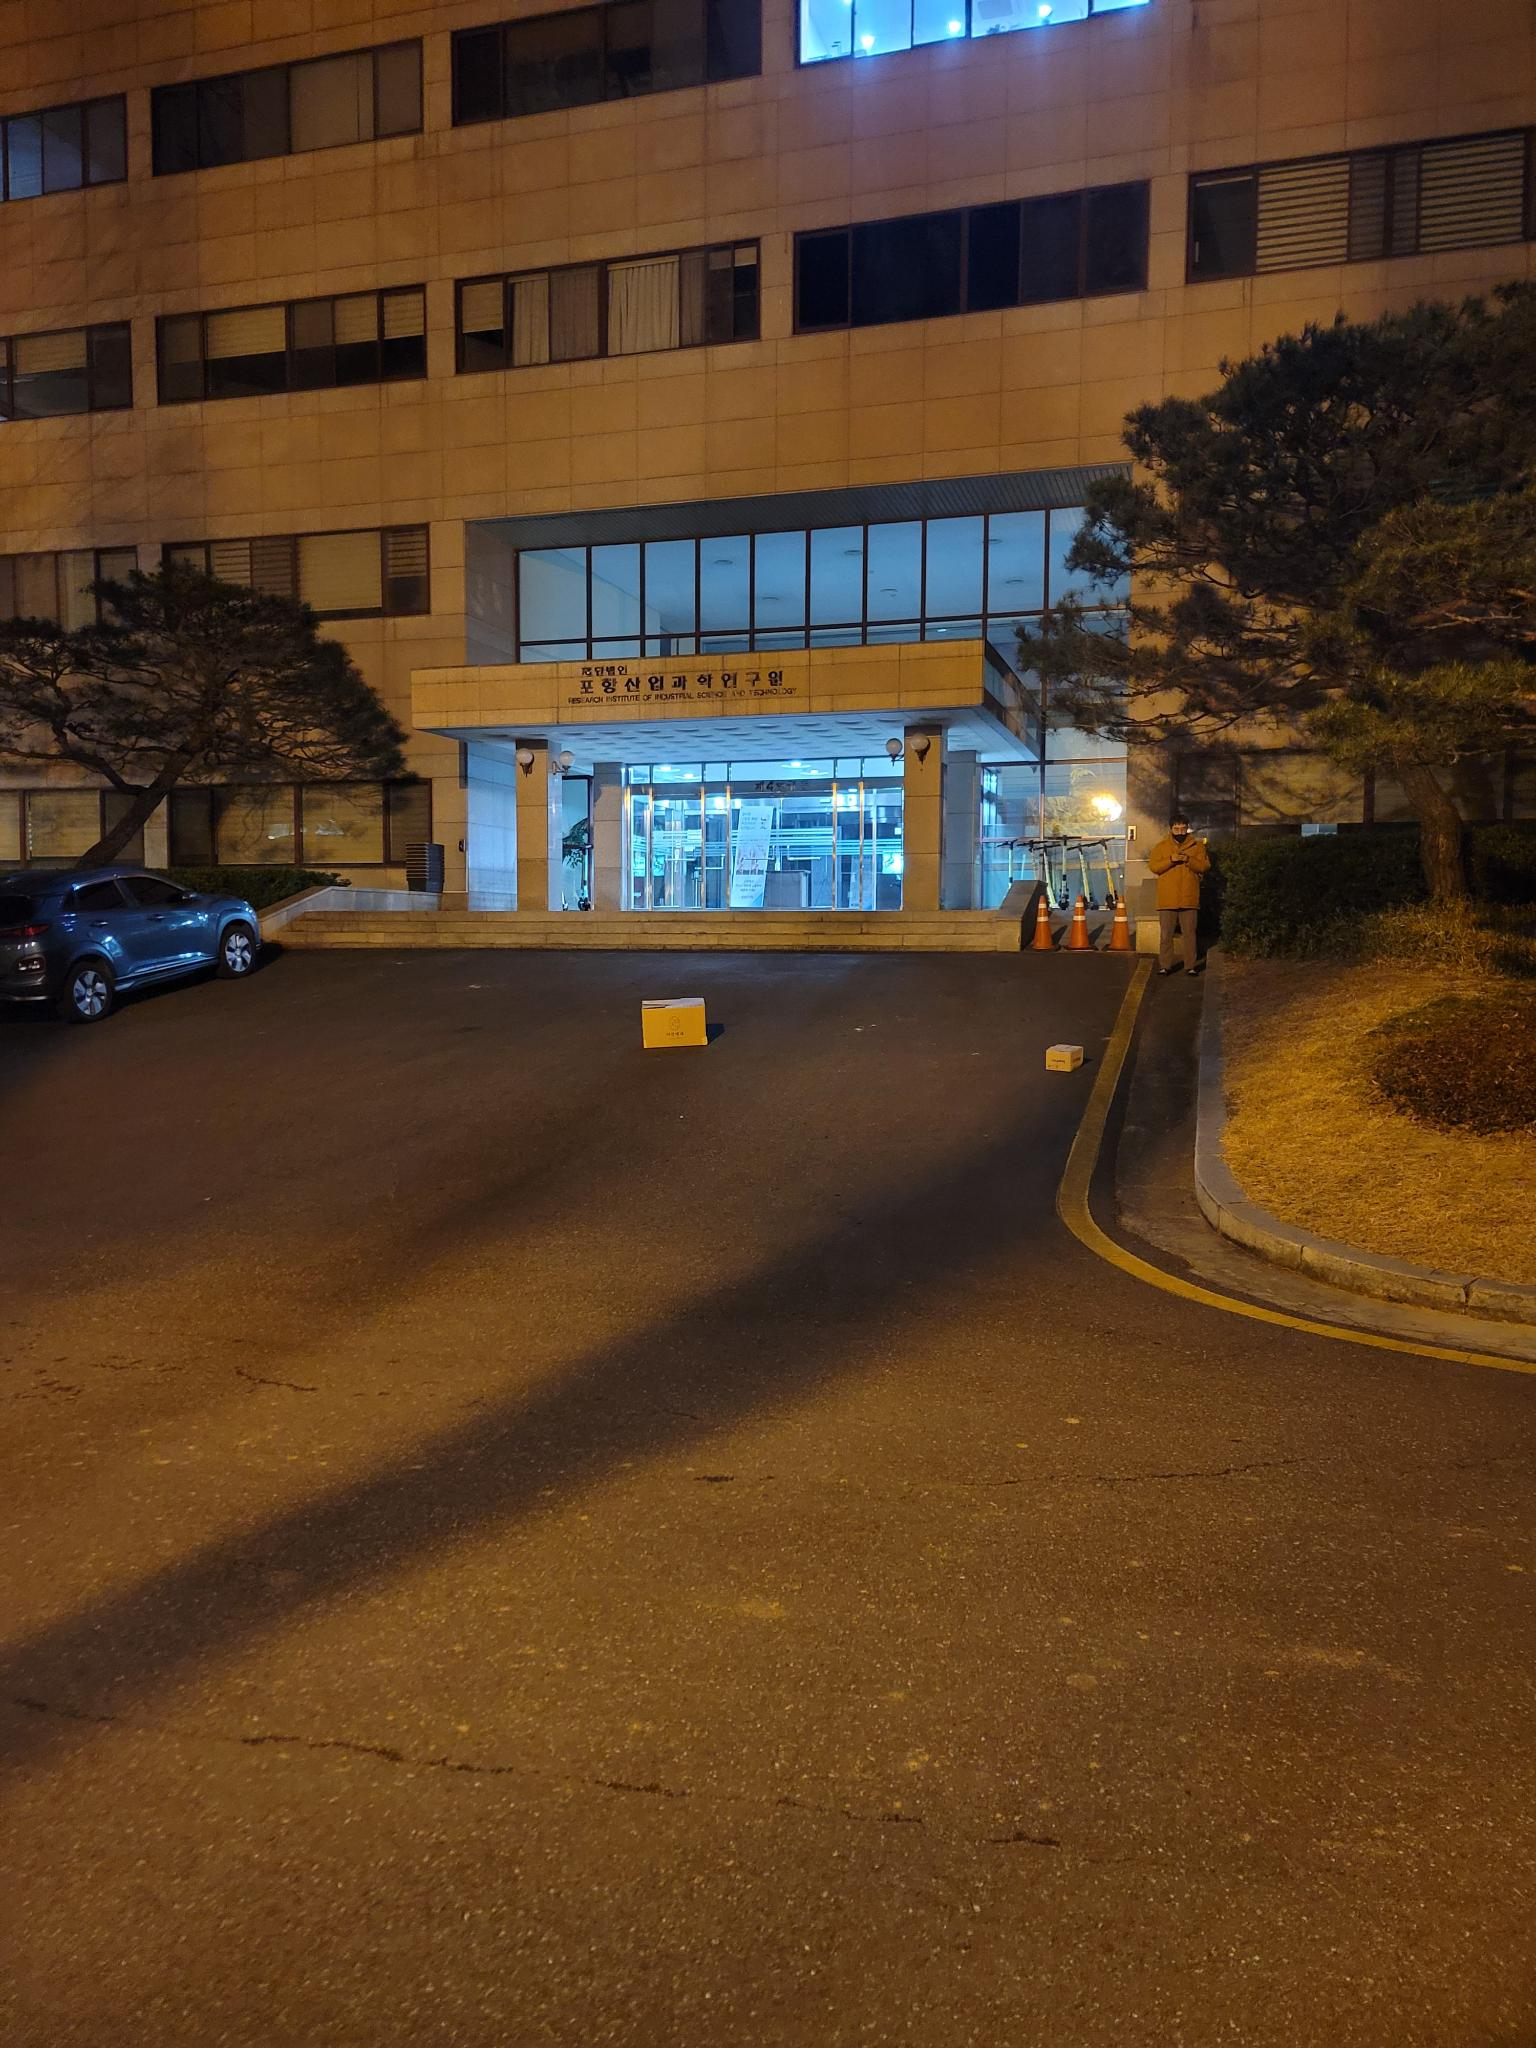Box: (631, 984, 723, 1063), (1046, 1032, 1083, 1074)
